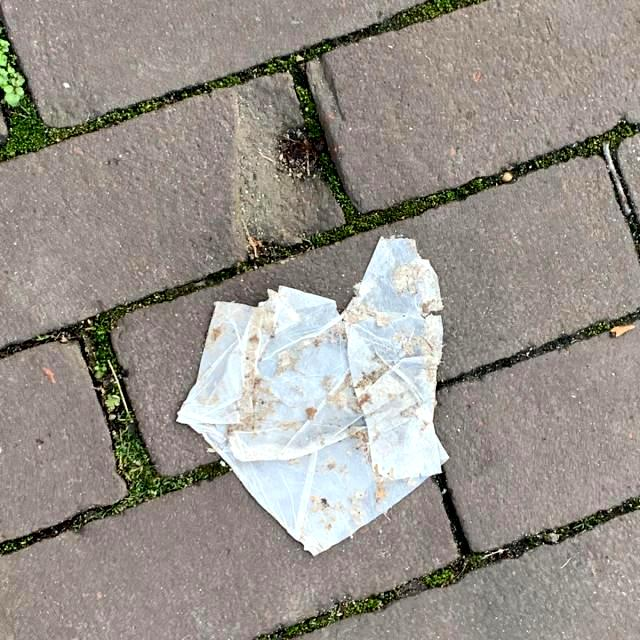Paper: (174, 232, 452, 558)
